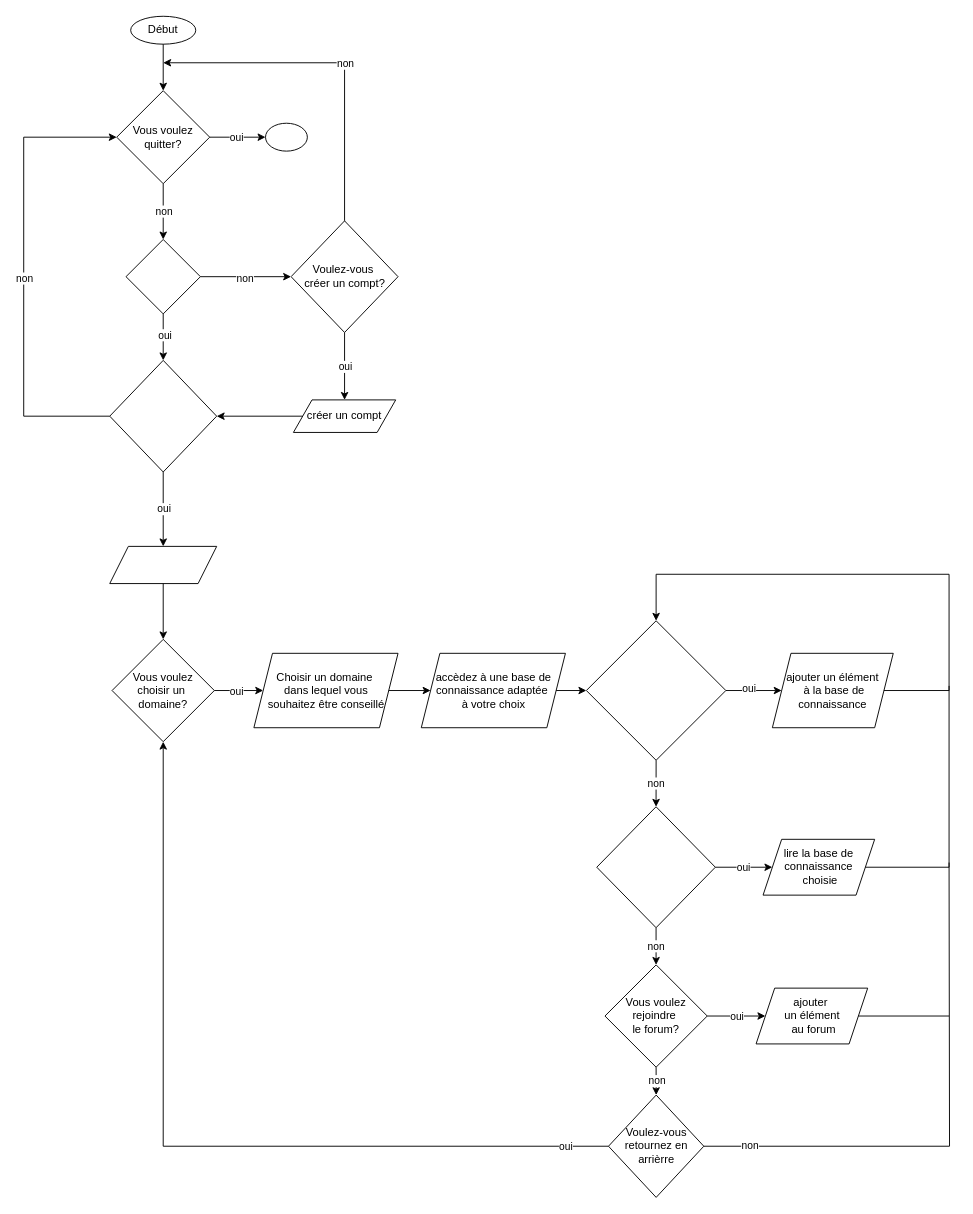
Some shapes in this 973 by 1214 pixel diagram are drawn without their labels. Here are the shapes that lost their labels. From the top down, the centre of each, then its label:
(x=286, y=136): Fin
(x=162, y=276): Déjà un compte?
(x=163, y=415): Voulez-vous vous connecter?
(x=163, y=564): connectez-vous
(x=655, y=690): Voulez-vous ajouter un élément à la base de connaissance choisie
(x=655, y=867): Voulez-vous lire la base de connaissance choisie
